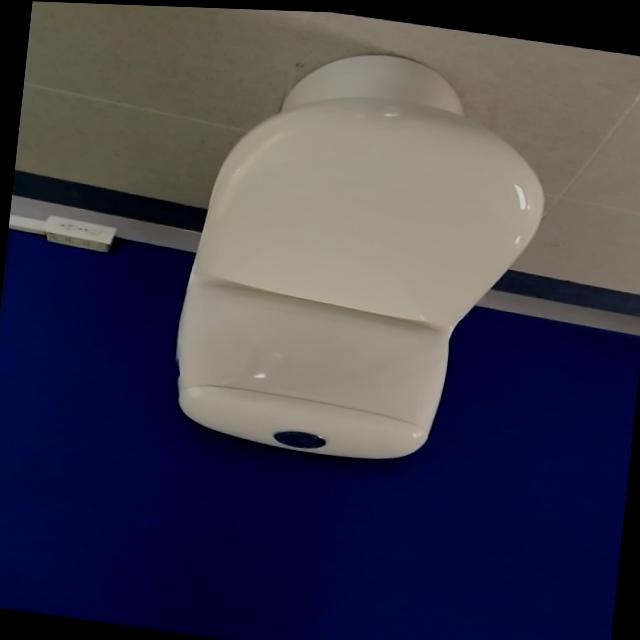toilet: (166, 26, 559, 481)
